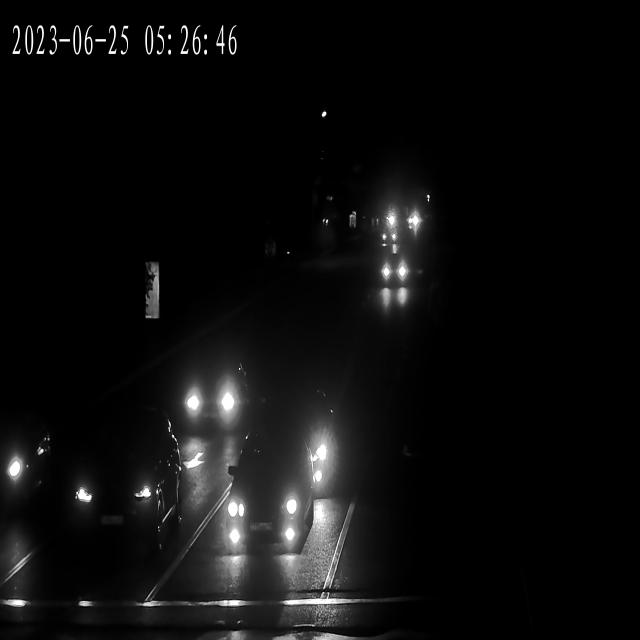Car: (70, 414, 182, 553), (225, 439, 316, 562), (271, 387, 355, 503), (182, 354, 248, 440), (0, 414, 54, 514), (379, 255, 413, 292), (384, 200, 401, 238), (407, 210, 428, 238)
